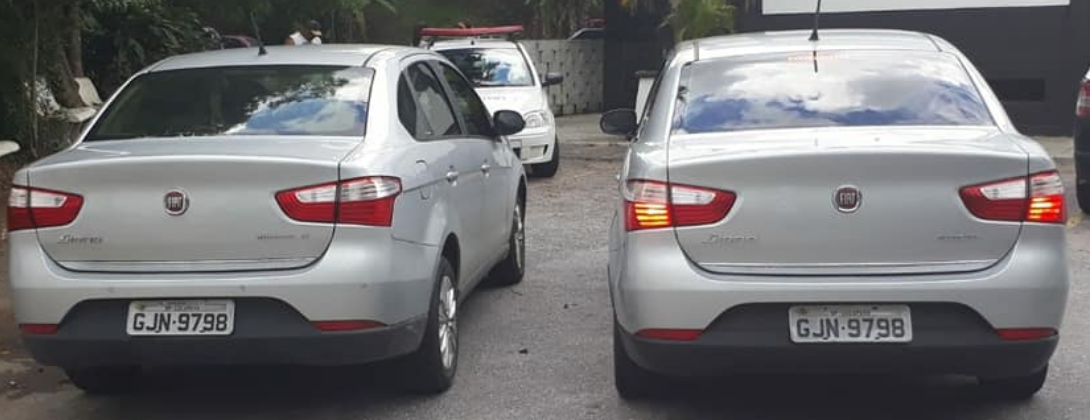car: (7, 39, 530, 404), (602, 27, 1072, 397)
car_plate: (785, 302, 914, 344), (124, 298, 238, 337)
